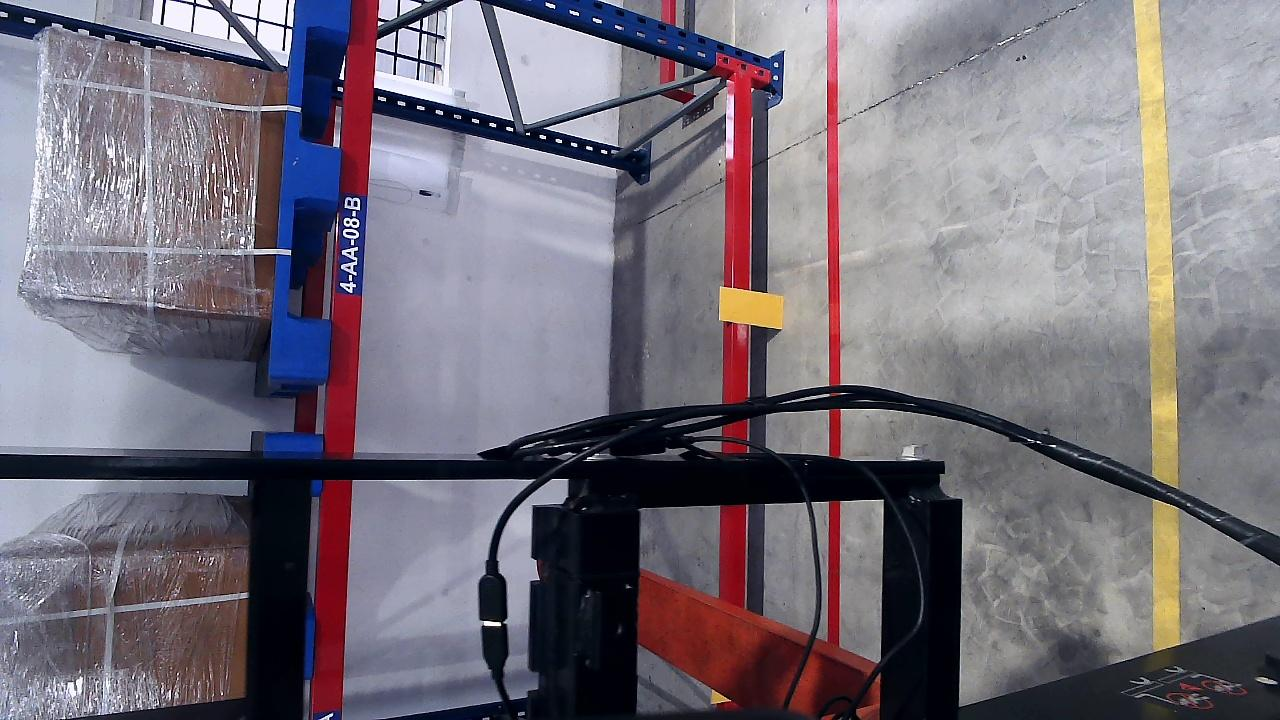h_rack: (320, 0, 381, 454), (312, 480, 355, 718), (729, 77, 756, 402)
orange_strip: (719, 285, 784, 328)
red_line: (822, 70, 844, 388)
small_pallet: (266, 0, 352, 368)
yellow_line: (1134, 0, 1181, 492)
